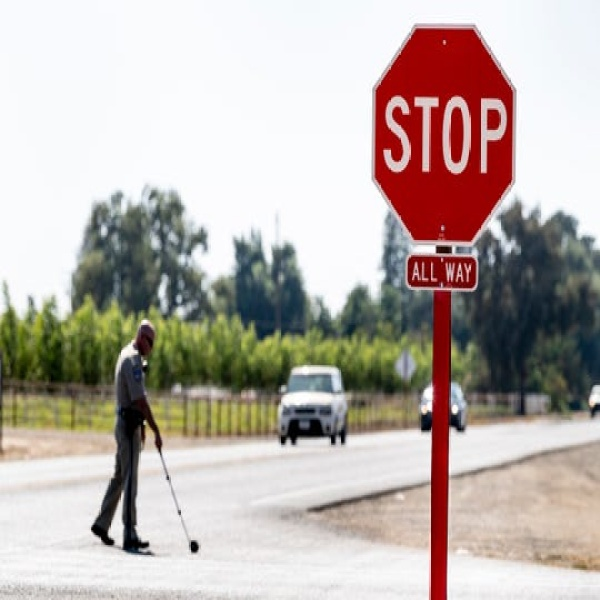stop: (372, 24, 512, 245)
